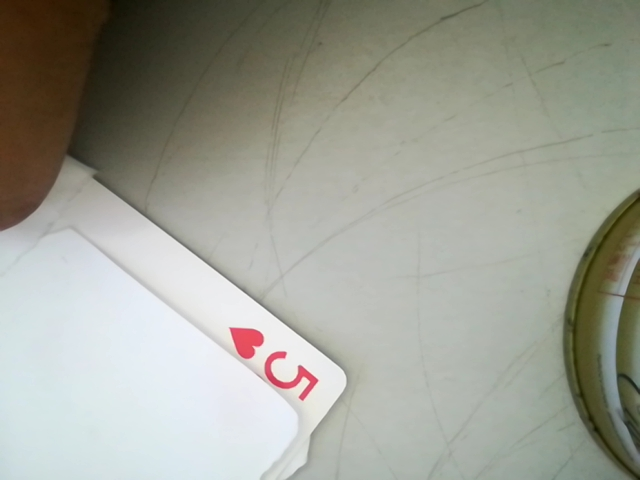hx 5: (216, 317, 327, 413)
